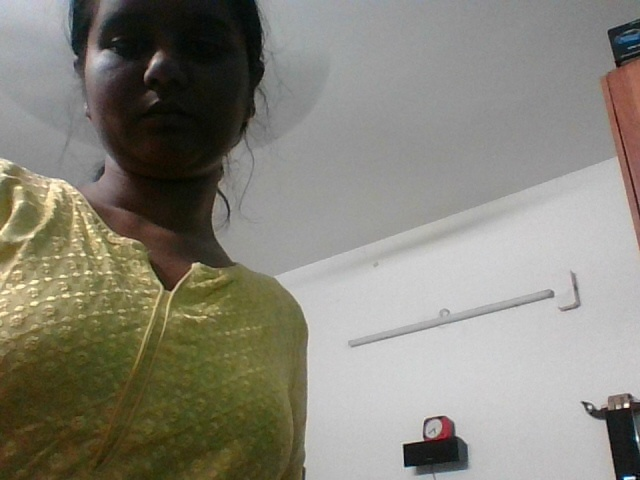real: (80, 0, 263, 260)
